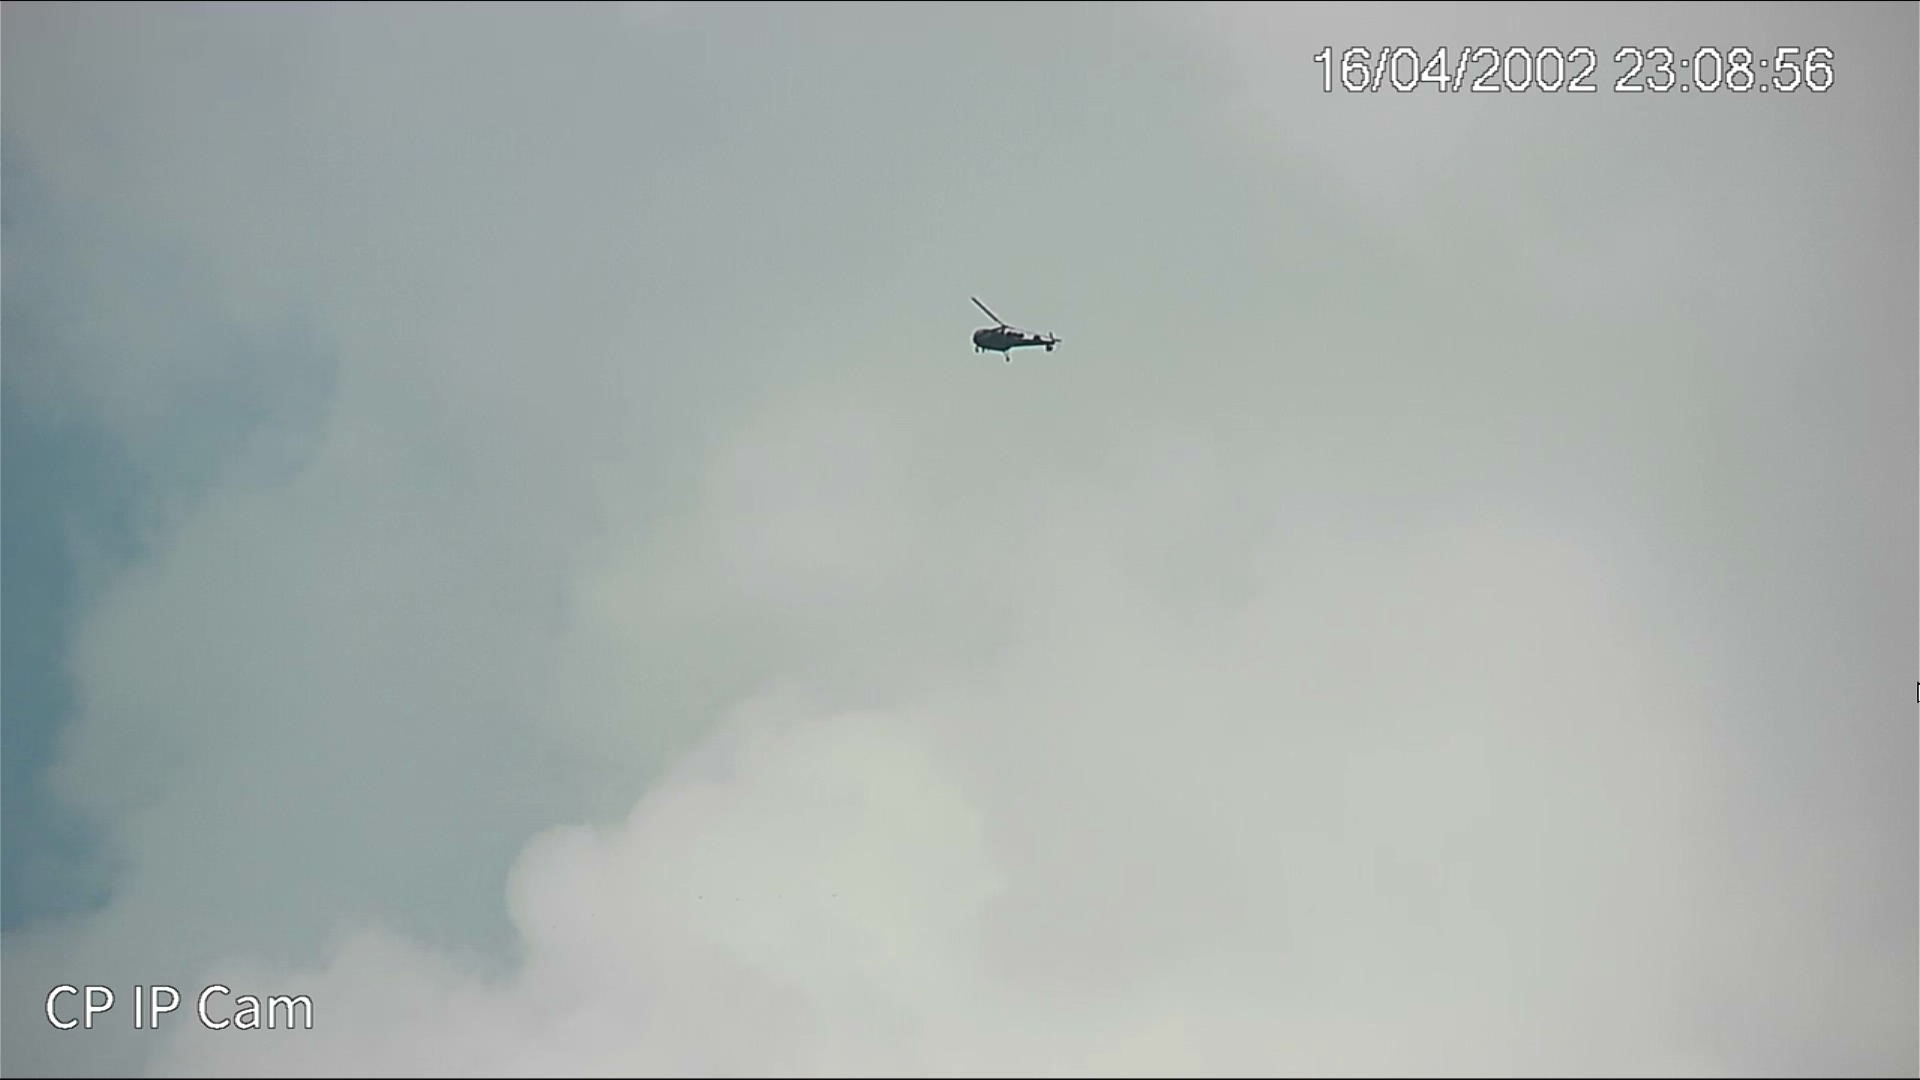SU_30: (967, 324, 1063, 368)
